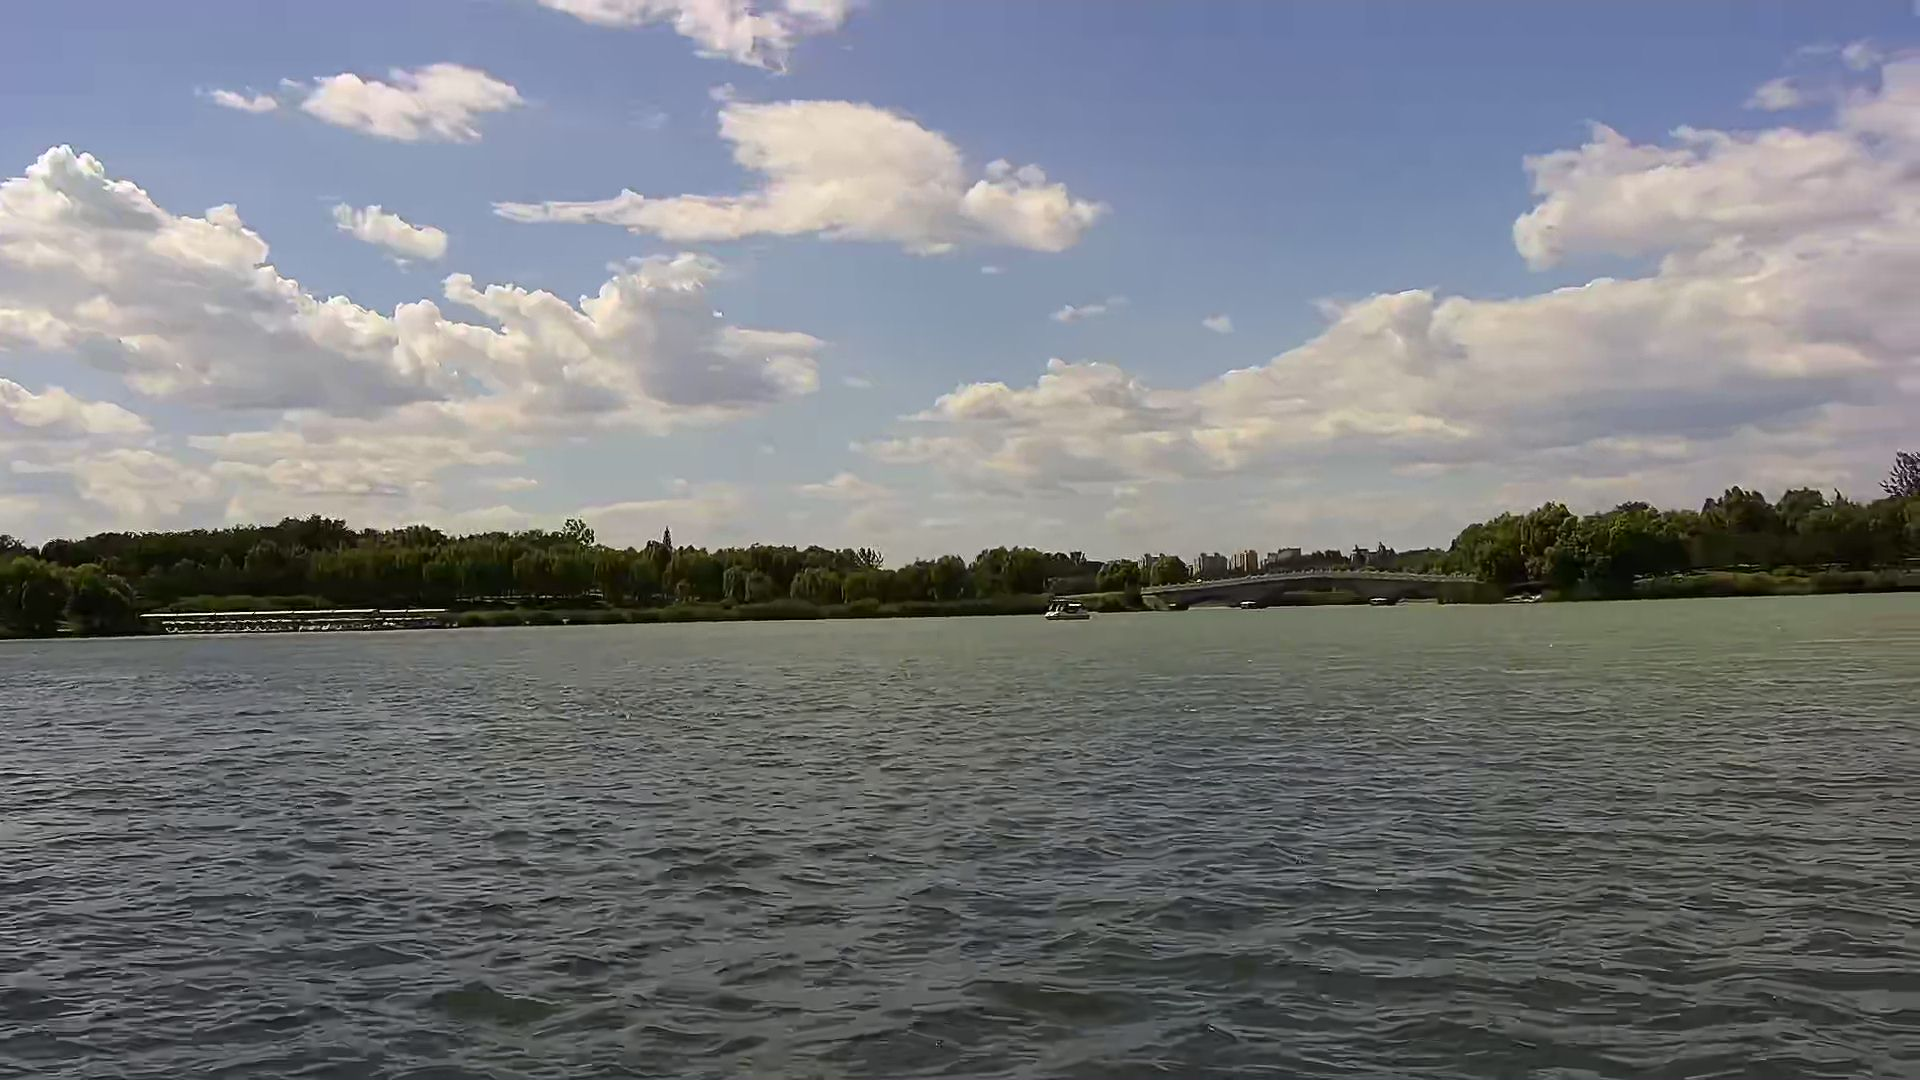boat: (1043, 603, 1096, 621)
bridge: (1160, 568, 1482, 603), (162, 613, 444, 632)
